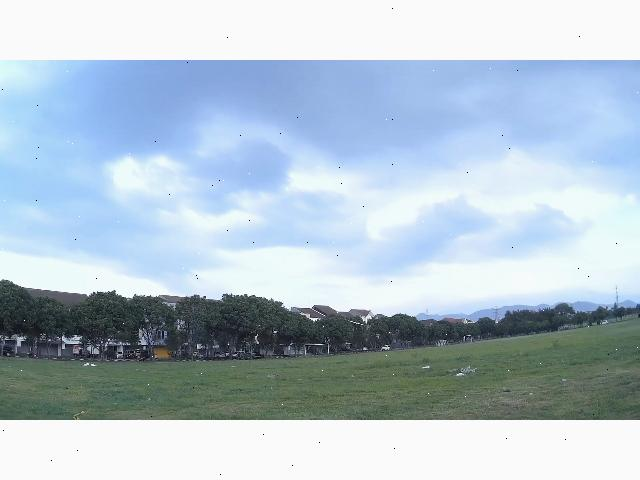Anti-Drone: (342, 314, 370, 328)
